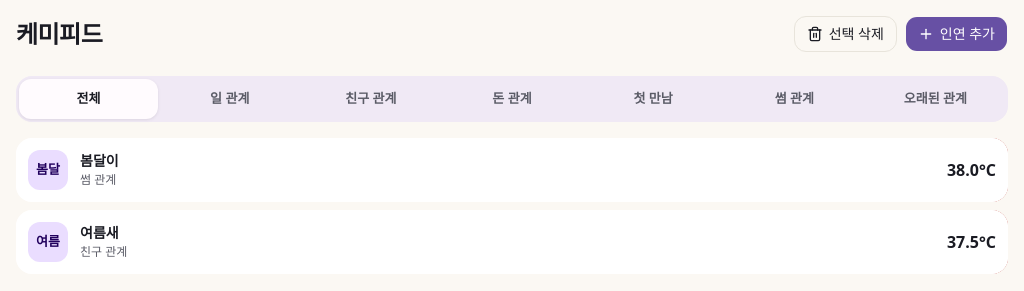
FeedPage › 필터 클릭 시 해당 모드 항목만 표시된다
This screenshot has width=1024, height=291.
Expected: the text "봄달이" is shown, [80,151,119,170]
Step 1. Click the radio button labelled "썸 관계" → {"x": 794, "y": 99}, box [725,79,864,118]
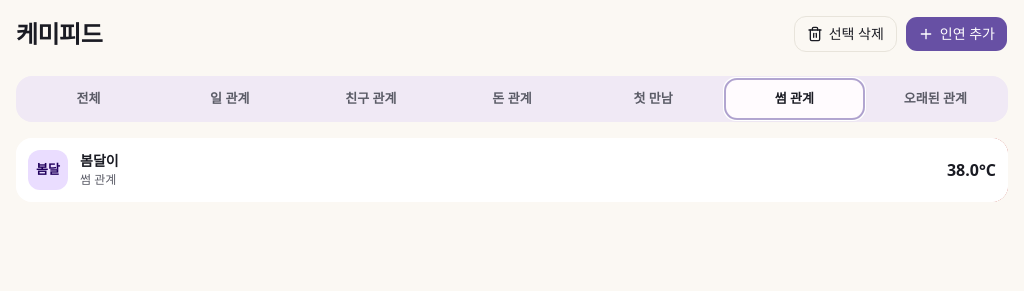
Expected: the text "봄달이" is shown, [80,151,119,170]
Now the button "여름새" is gone
